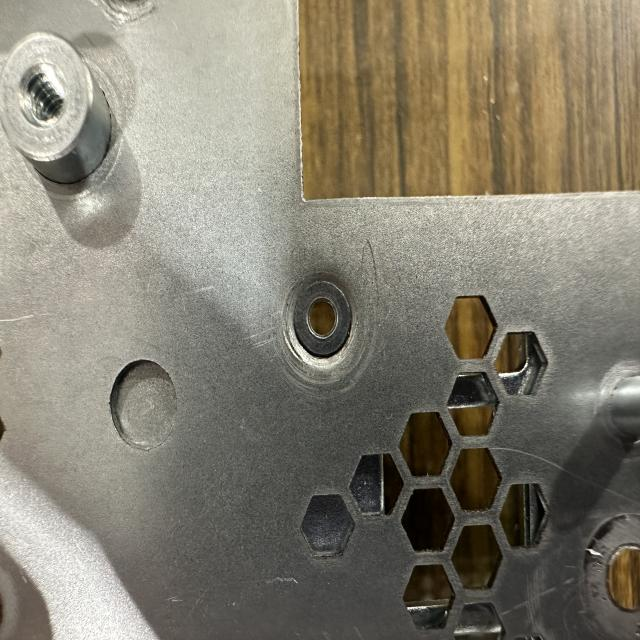Missing screw: (266, 263, 372, 384)
